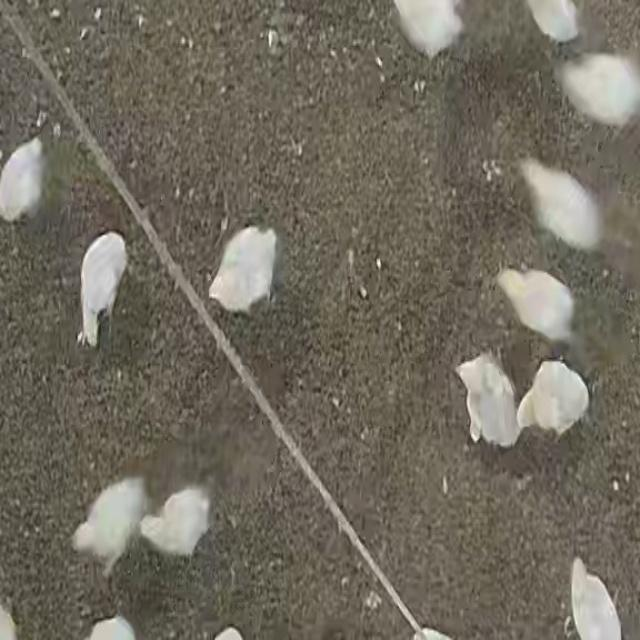chicken: (517, 158, 600, 253), (72, 475, 148, 577), (456, 354, 522, 448), (497, 268, 574, 348), (559, 52, 638, 128), (77, 233, 127, 349), (517, 360, 588, 440), (211, 225, 276, 312), (139, 486, 212, 560), (569, 557, 623, 640), (389, 1, 462, 57), (0, 136, 46, 223)
